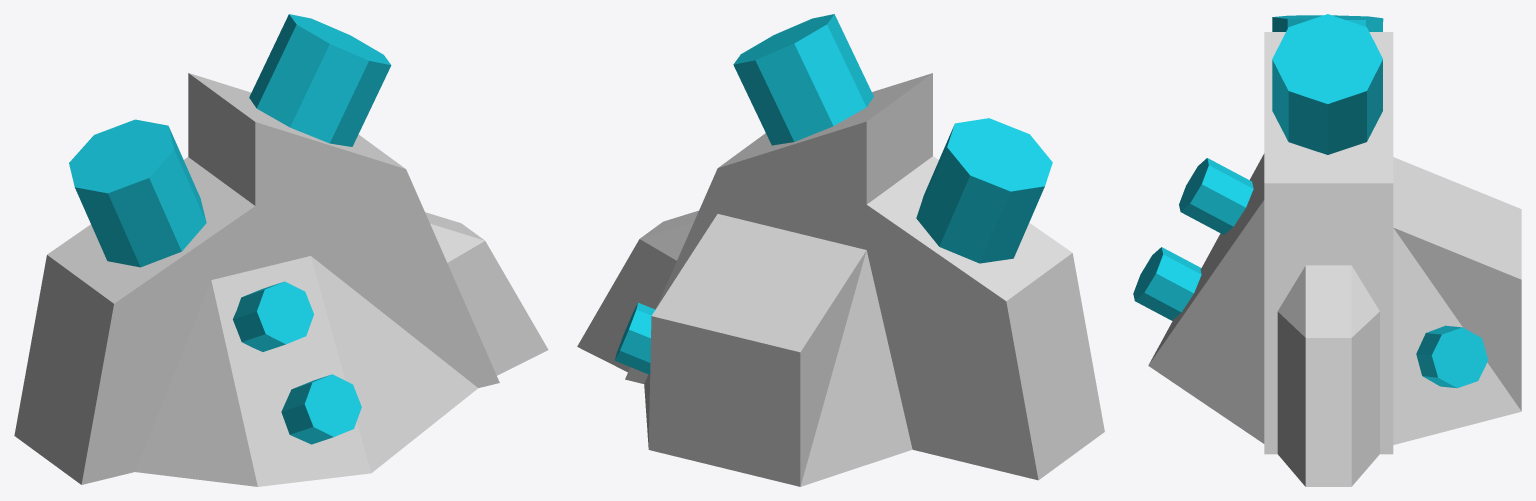
The model's file is Diamante_Tipo2.fbx.
3 views of the same model, side by side, from view 1: azimuth 30°, elevation 25°; view 2: azimuth 150°, elevation 25°; view 3: azimuth 270°, elevation 25° (orthographic). The views are drawn at different scales.
Visible parts, largest first — view 1: base.014, diamante.002, diamante.001, diamante.003, diamante.004; view 2: base.014, diamante.002, diamante.001, diamante.005; view 3: base.014, diamante.001, diamante.003, diamante.005, diamante.004, diamante.002.
Part boxes in pixels (x1,y1,x2,y2): base.014: (14,73,548,486); diamante.002: (69,119,206,267); diamante.001: (249,14,391,146); diamante.003: (233,281,313,351); diamante.004: (281,374,361,444); base.014: (577,73,1104,486); diamante.002: (916,118,1052,263); diamante.001: (733,14,873,145); diamante.005: (615,302,655,374); base.014: (1148,32,1521,486); diamante.001: (1272,14,1382,154); diamante.003: (1179,158,1253,234); diamante.005: (1416,325,1488,388); diamante.004: (1133,247,1201,320); diamante.002: (1272,15,1383,31).
Size of the model in its own units: 140 by 103 by 101.
